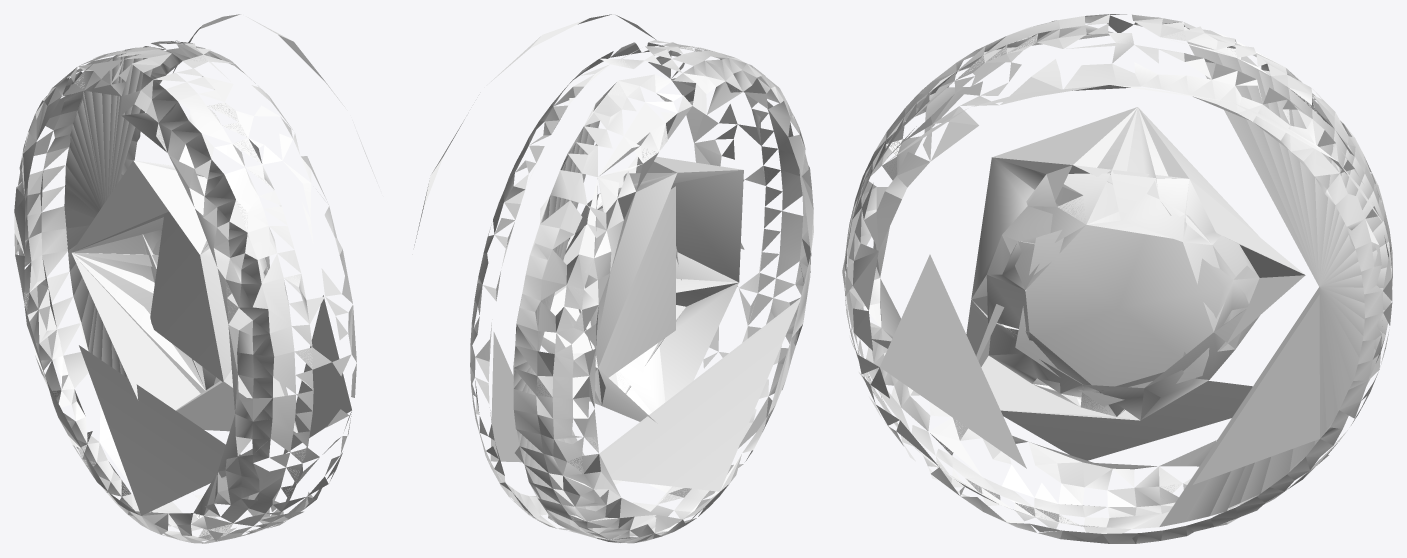
3 views of the same model, side by side, from view 1: azimuth 30°, elevation 25°; view 2: azimuth 150°, elevation 25°; view 3: azimuth 270°, elevation 25° (orthographic). The views are drawn at different scales.
Size of the model in its own units: 0.2431 by 0.6006 by 0.6014.
1 material, 1 textured.
